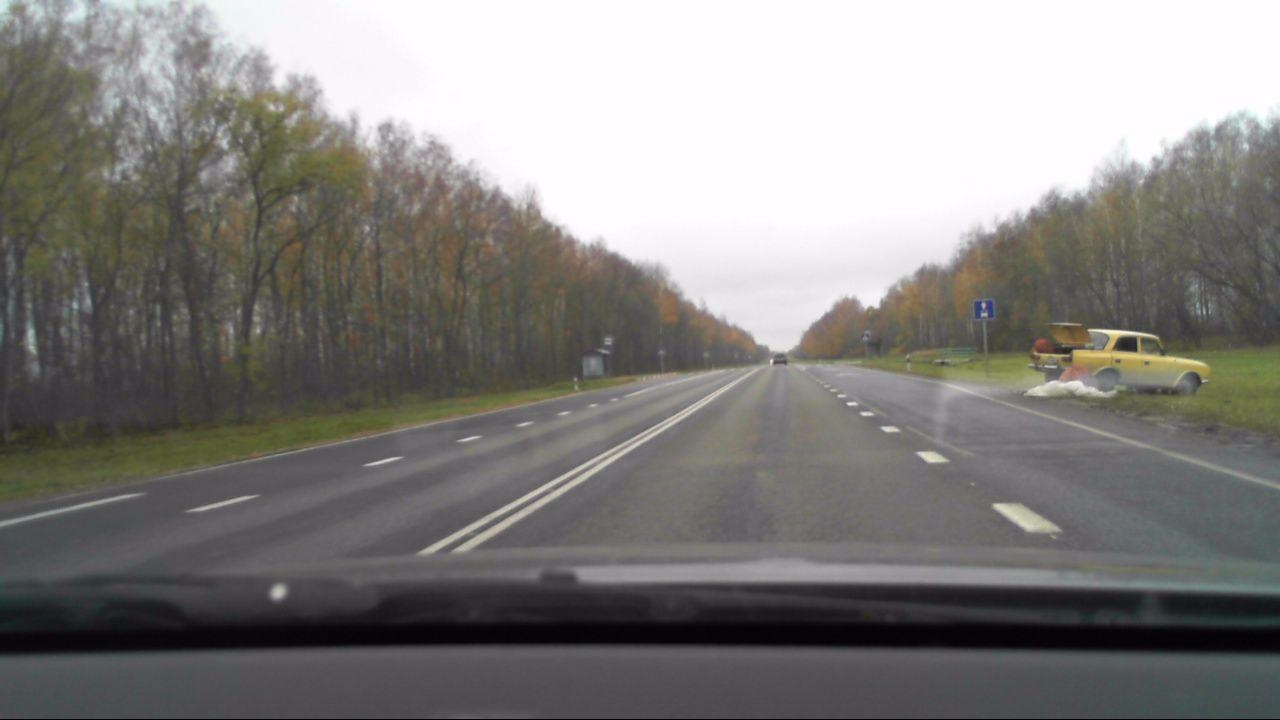5_14_1: (972, 296, 995, 318)
